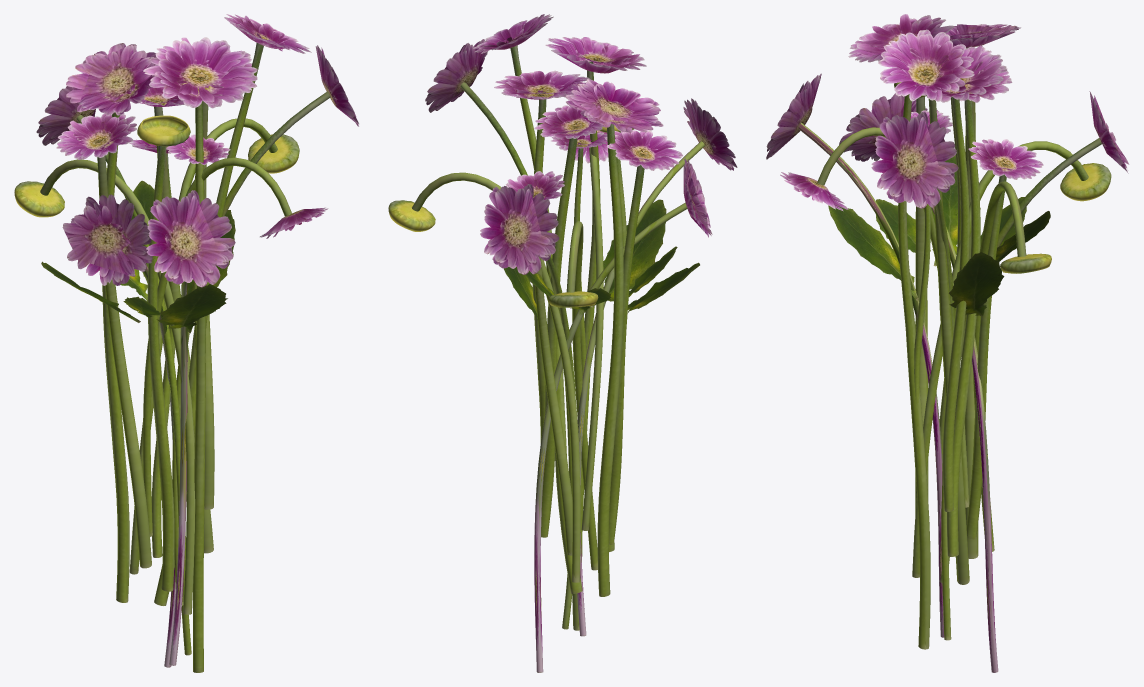
File: mazzo_margherite.fbx
The picture shows the model from 3 angles, left to right: view 1: azimuth 30°, elevation 25°; view 2: azimuth 150°, elevation 25°; view 3: azimuth 270°, elevation 25°; orthographic projection. The views are drawn at different scales.
Visible parts, largest first — view 1: BezierCurve.018, BezierCurve.020, Plane.037, BezierCurve.019, BezierCurve.023, BezierCurve.028, Plane.052, Plane.051, Plane.064, Plane.040, BezierCurve.022, Plane.063 (+24 smaller); view 2: BezierCurve.019, BezierCurve.024, BezierCurve.031, BezierCurve.023, BezierCurve.022, BezierCurve.030, Plane.059, BezierCurve.017, Plane.060, BezierCurve.028, BezierCurve.027, Plane.048 (+26 smaller); view 3: BezierCurve.018, BezierCurve.021, BezierCurve.030, Plane.033, Plane.048, Plane.049, BezierCurve.016, BezierCurve.027, BezierCurve.017, BezierCurve.028, BezierCurve.031, Plane.061 (+27 smaller).
Boxes of the visible parts, <box> form: BezierCurve.018: <box>193,101,205,672</box>; BezierCurve.020: <box>147,146,174,591</box>; Plane.037: <box>143,37,257,108</box>; BezierCurve.019: <box>102,112,129,602</box>; BezierCurve.023: <box>97,155,151,568</box>; BezierCurve.028: <box>40,159,195,614</box>; Plane.052: <box>157,195,226,286</box>; Plane.051: <box>146,190,235,287</box>; Plane.064: <box>62,205,135,276</box>; Plane.040: <box>79,45,151,104</box>; BezierCurve.022: <box>143,157,291,536</box>; Plane.063: <box>71,194,152,285</box>; BezierCurve.019: <box>597,124,623,596</box>; BezierCurve.024: <box>412,172,580,582</box>; BezierCurve.031: <box>534,202,687,672</box>; BezierCurve.023: <box>609,164,644,544</box>; BezierCurve.022: <box>581,147,603,530</box>; BezierCurve.030: <box>541,138,577,537</box>; Plane.059: <box>480,184,559,274</box>; BezierCurve.017: <box>535,256,572,555</box>; Plane.060: <box>487,188,550,273</box>; BezierCurve.028: <box>566,221,597,570</box>; BezierCurve.027: <box>577,141,704,636</box>; Plane.048: <box>425,39,487,112</box>; BezierCurve.018: <box>898,94,930,649</box>; BezierCurve.021: <box>942,97,969,511</box>; BezierCurve.030: <box>947,99,980,556</box>; Plane.033: <box>878,29,974,101</box>; Plane.048: <box>871,111,958,208</box>; Plane.049: <box>880,117,948,207</box>; BezierCurve.016: <box>928,98,969,584</box>; BezierCurve.027: <box>798,123,944,637</box>; BezierCurve.017: <box>966,174,1006,539</box>; BezierCurve.028: <box>912,141,1088,577</box>; BezierCurve.031: <box>931,207,998,672</box>; Plane.061: <box>828,200,918,300</box>.
Size of the model in its own units: 18.24 by 38.59 by 19.37.
